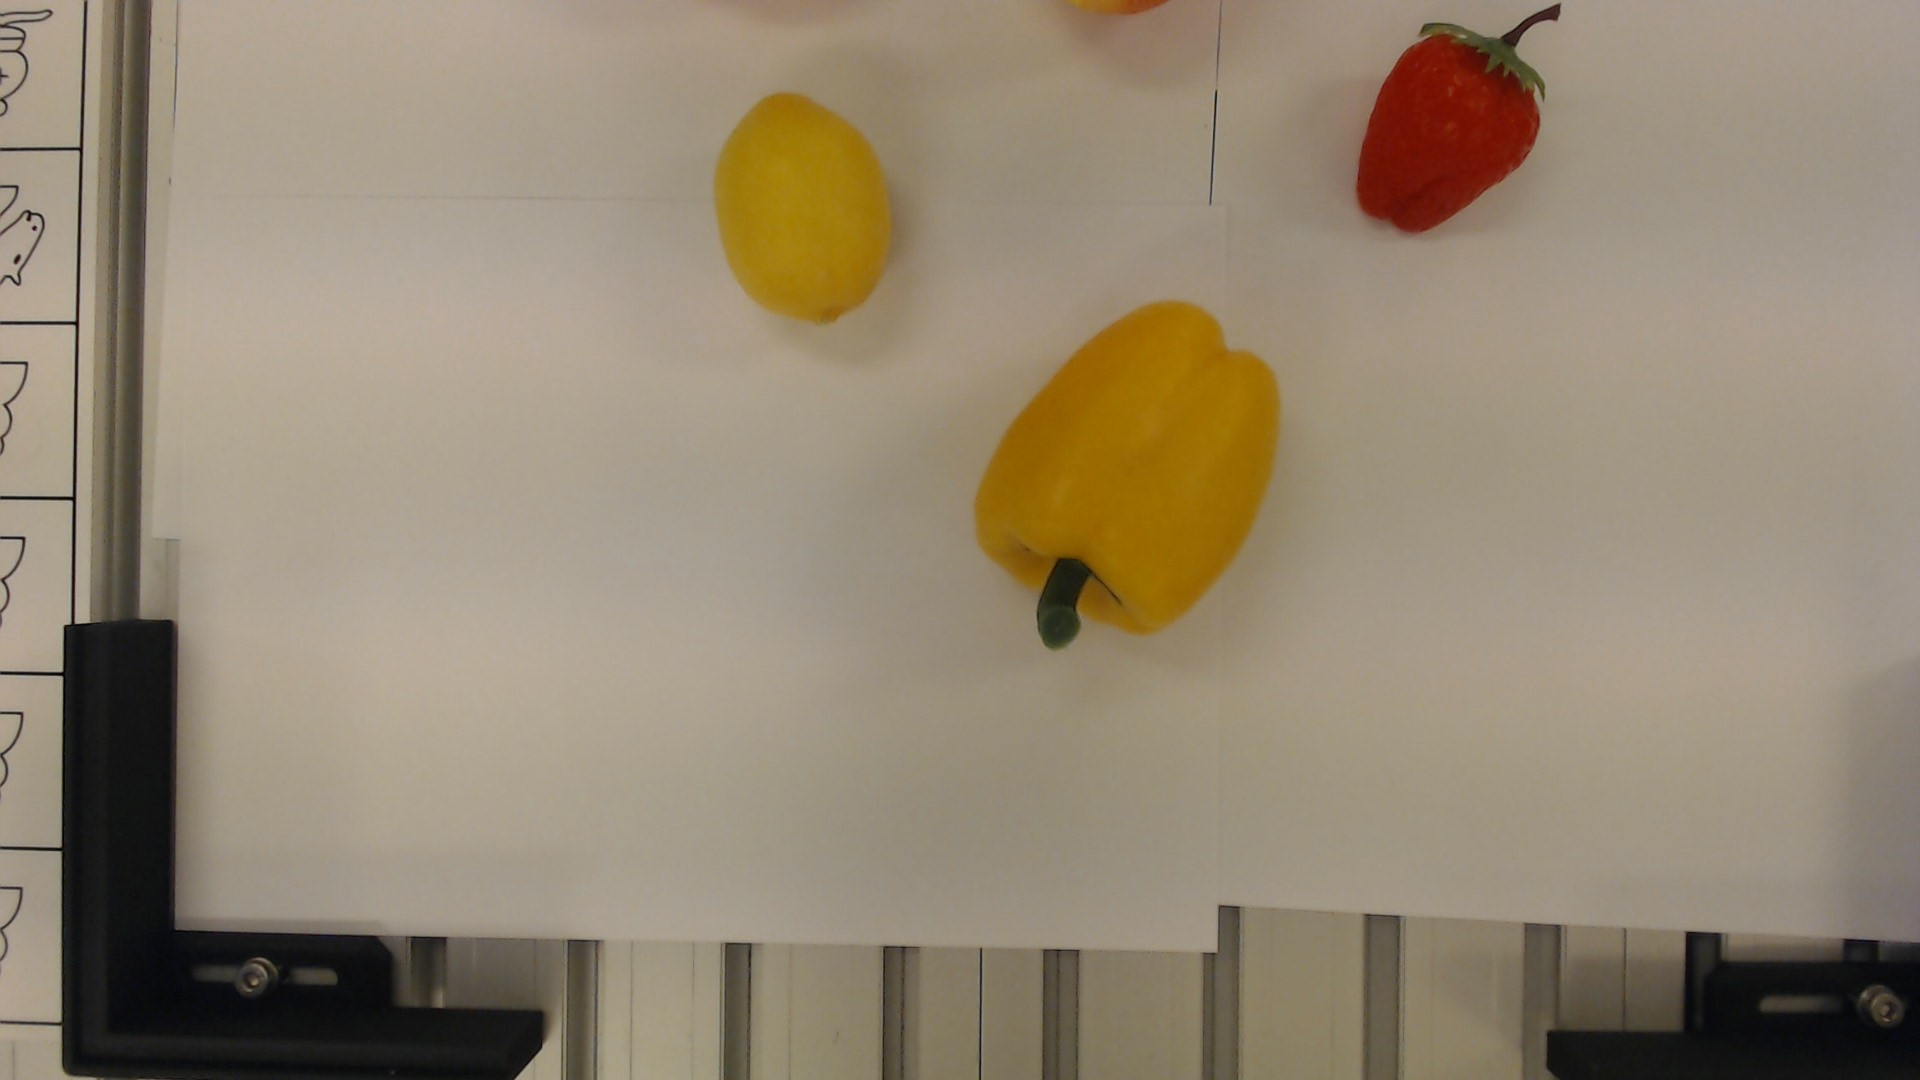Lemon: (1349, 4, 1572, 241), (715, 88, 905, 330)
Yellow Bell Pepper: (971, 295, 1284, 653)
